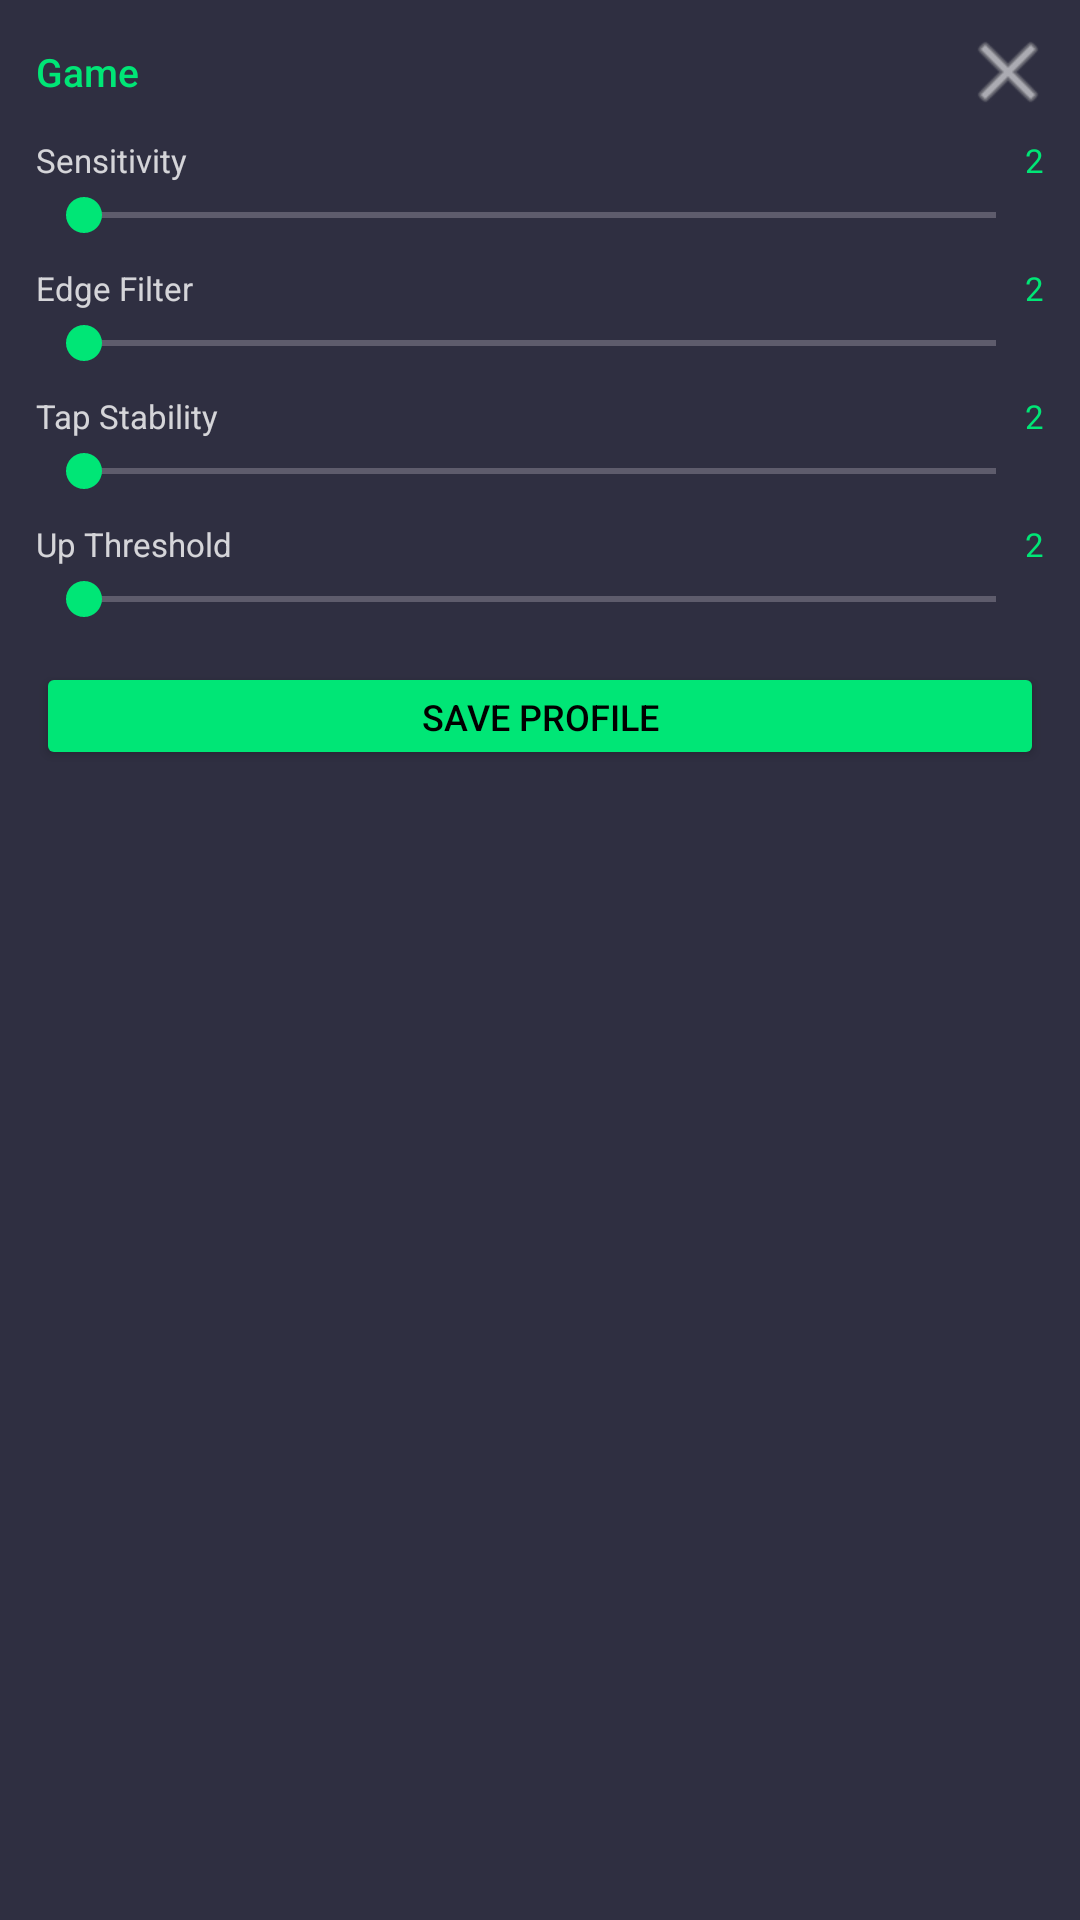

Icon bounding boxes for this 1080 × 1920 phone screenshot, format box(x1, y1, x2, y2):
close clear cancel: box(978, 42, 1038, 102)
